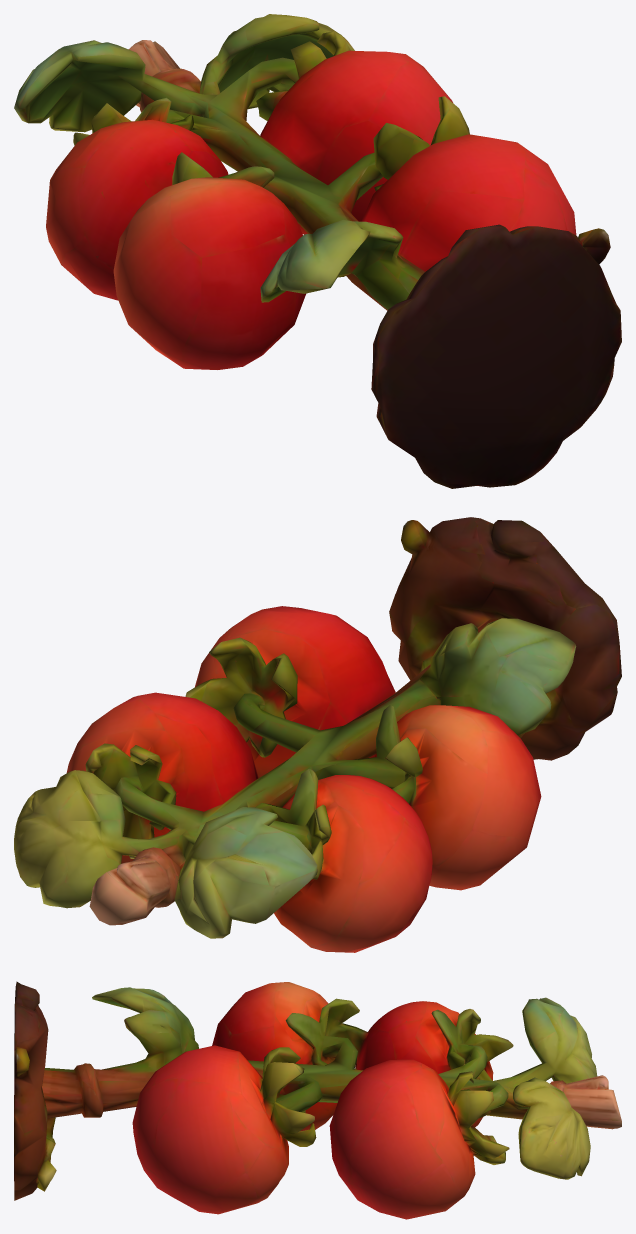
3 renders of one model, top to bottom at view 1: azimuth 30°, elevation 25°; view 2: azimuth 150°, elevation 25°; view 3: azimuth 270°, elevation 25°, orthographic. The views are drawn at different scales.
Visible parts, largest first — view 1: material; view 2: material; view 3: material.
Part boxes in pixels (box(x1,y1,x2,y2)): material: box(14, 14, 621, 488); material: box(14, 517, 621, 952); material: box(14, 981, 621, 1219).
Size of the model in its own units: 0.5886 by 0.3676 by 1.
1 material, 1 textured.
